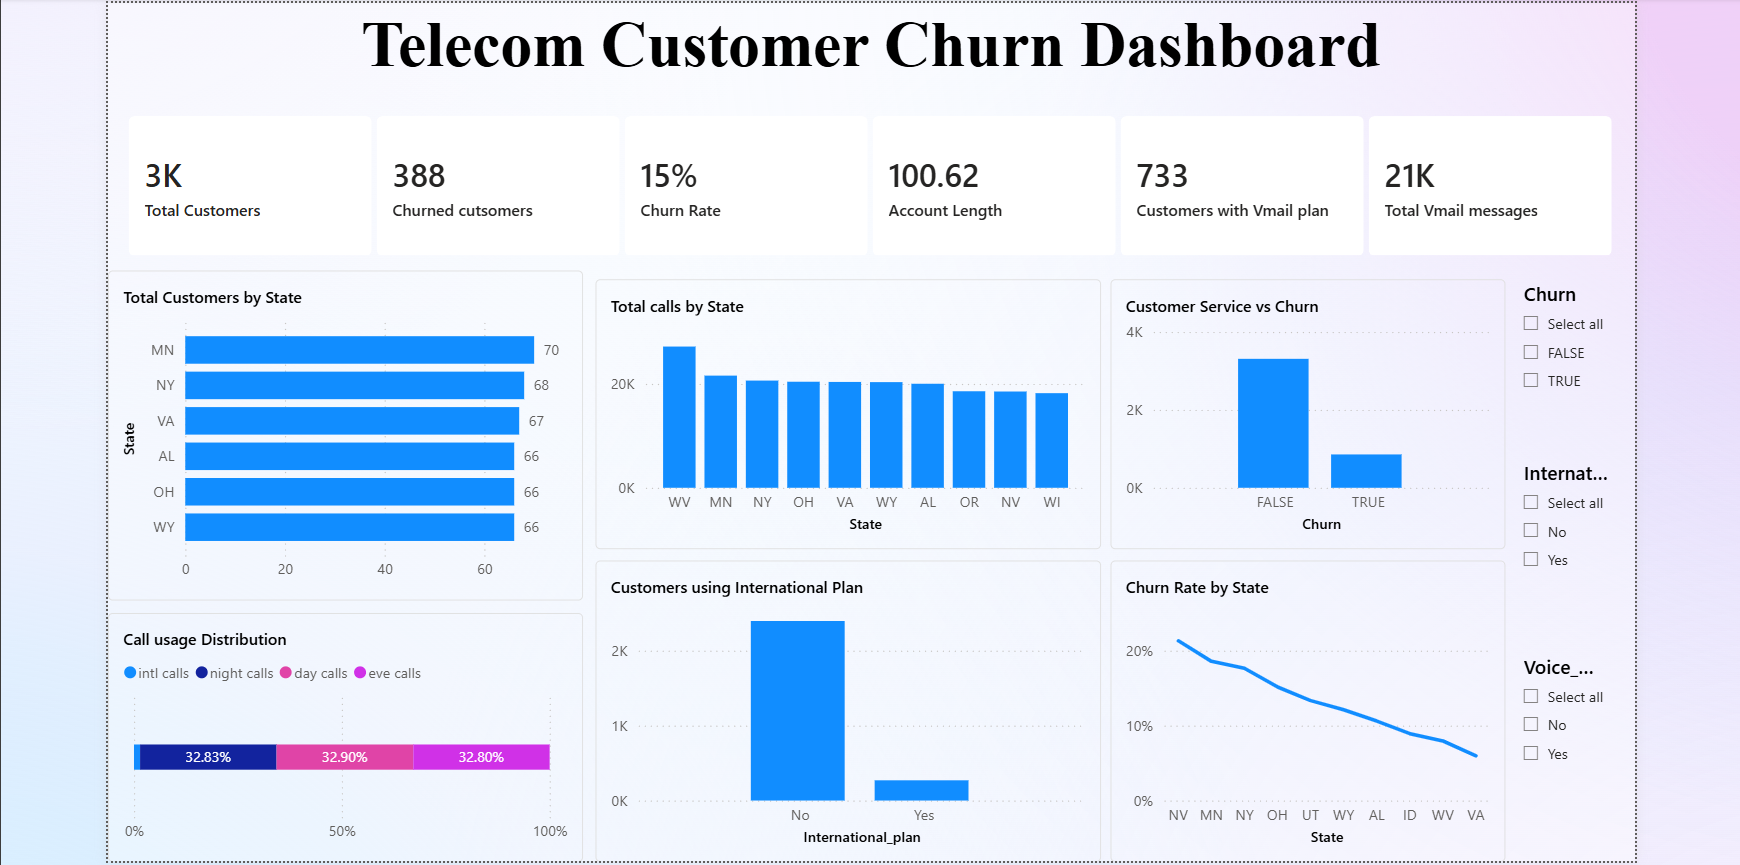

What the dashboard file says about the page in this screenshot:
{"tool":"powerbi","page":{"name":"Workforce Overview","canvas":[1280,720],"ordinal":0},"visuals":[{"type":"cardVisual","fields":{"Data":["telecom_customer telecom.Total Customers","telecom_customer telecom.Churned cutsomers","telecom_customer telecom.Churn Rate","telecom_customer telecom.Account Length","telecom_customer telecom.Customers with Voice mail plan","telecom_customer telecom.Total Voice Mail messages"]},"box":[5.7,82.7,1268.2,141.3],"z":0},{"type":"clusteredBarChart","fields":{"Y":["telecom_customer telecom.Total Customers"],"Category":["telecom_customer telecom.State"]},"box":[0,224,398.6,276.8],"z":1000},{"type":"clusteredColumnChart","title":"Customers using International Plan","fields":{"Category":["telecom_customer telecom.International_plan"],"Y":["telecom_customer telecom.Total Customers"]},"box":[408.9,467.5,423.9,252.7],"z":2000},{"type":"hundredPercentStackedBarChart","title":"Call usage Distribution","fields":{"Y":["Sum(telecom_customer telecom.Total_intl_calls)","Sum(telecom_customer telecom.Total_night_calls)","Sum(telecom_customer telecom.Total_day_calls)","Sum(telecom_customer telecom.Total_eve_calls)"]},"box":[0,511.2,398.6,209.1],"z":3000},{"type":"lineChart","fields":{"Category":["telecom_customer telecom.State"],"Y":["telecom_customer telecom.Churn Rate"]},"box":[840.8,467.5,330.8,252.7],"z":4000},{"type":"clusteredColumnChart","title":"Customer Service vs Churn","fields":{"Category":["telecom_customer telecom.Churn"],"Y":["Sum(telecom_customer telecom.Customer_service_calls)"]},"box":[840.8,232,330.8,226.3],"z":5000},{"type":"clusteredColumnChart","fields":{"Category":["telecom_customer telecom.State"],"Y":["telecom_customer telecom.Total calls"]},"box":[408.9,232,423.9,226.3],"z":6000},{"type":"textbox","box":[0,0,1279.6,78.1],"z":7000},{"type":"slicer","fields":{"Values":["telecom_customer telecom.Churn"]},"box":[1179.1,232.6,95.3,138.4],"z":8000},{"type":"slicer","fields":{"Values":["telecom_customer telecom.International_plan"]},"box":[1179.1,382.6,95.3,150],"z":9000},{"type":"slicer","fields":{"Values":["telecom_customer telecom.Voice_mail_plan"]},"box":[1179.1,545.4,95.3,146.5],"z":10000}]}

Visuals, with their boxes on the page's 1280x720 design canvas (x1, y1, x2, y2). These are canvas units, not pixel positions in the 1740x865 screenshot, which may show the page scaled, cropped or inside an application window:
cardVisual - telecom_customer telecom.Total Customers x telecom_customer telecom.Churned cutsomers: l=6, t=83, r=1274, b=224
clusteredBarChart - telecom_customer telecom.Total Customers x telecom_customer telecom.State: l=0, t=224, r=399, b=501
"Customers using International Plan" clusteredColumnChart: l=409, t=468, r=833, b=720
"Call usage Distribution" hundredPercentStackedBarChart: l=0, t=511, r=399, b=720
lineChart - telecom_customer telecom.State x telecom_customer telecom.Churn Rate: l=841, t=468, r=1172, b=720
"Customer Service vs Churn" clusteredColumnChart: l=841, t=232, r=1172, b=458
clusteredColumnChart - telecom_customer telecom.State x telecom_customer telecom.Total calls: l=409, t=232, r=833, b=458
textbox: l=0, t=0, r=1280, b=78
slicer - telecom_customer telecom.Churn: l=1179, t=233, r=1274, b=371
slicer - telecom_customer telecom.International_plan: l=1179, t=383, r=1274, b=533
slicer - telecom_customer telecom.Voice_mail_plan: l=1179, t=545, r=1274, b=692
